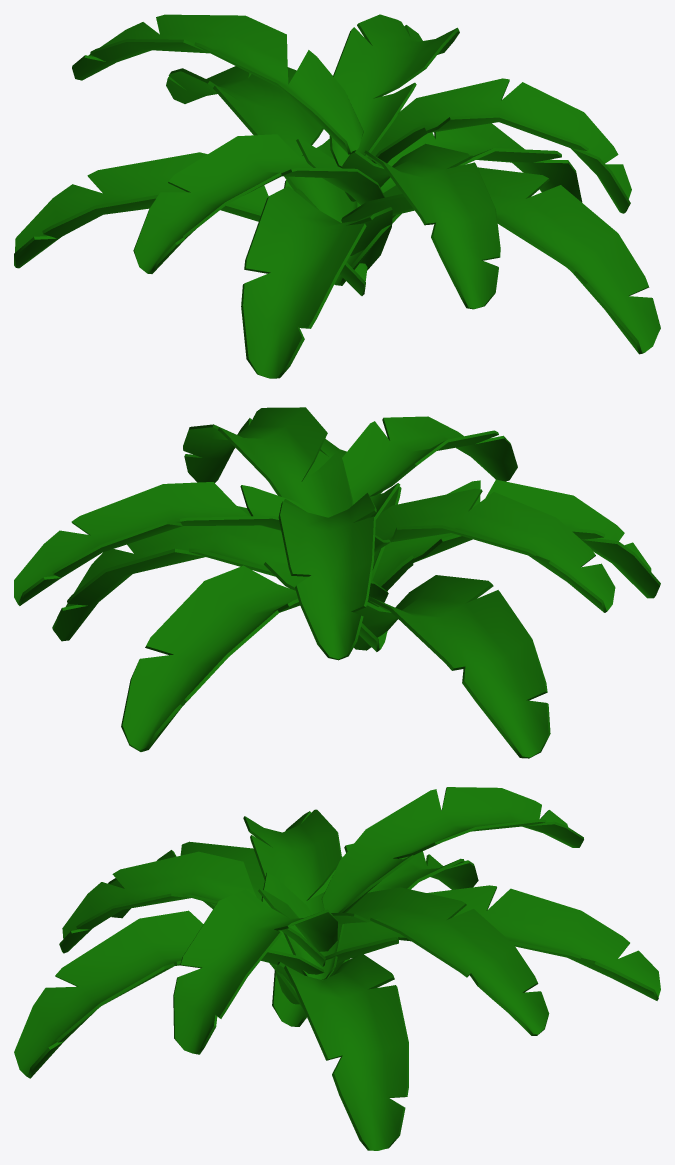
The model's file is plant3.fbx.
3 renders of one model, top to bottom at view 1: azimuth 30°, elevation 25°; view 2: azimuth 150°, elevation 25°; view 3: azimuth 270°, elevation 25°, orthographic. The views are drawn at different scales.
Parts seen in each view (by area): view 1: Plane007; view 2: Plane007; view 3: Plane007.
Part boxes in pixels (x1,y1,x2,y2): Plane007: (14, 14, 660, 378); Plane007: (14, 407, 660, 758); Plane007: (14, 787, 660, 1150).
Bounding box in the file's own units: 152 × 64.68 × 178.
